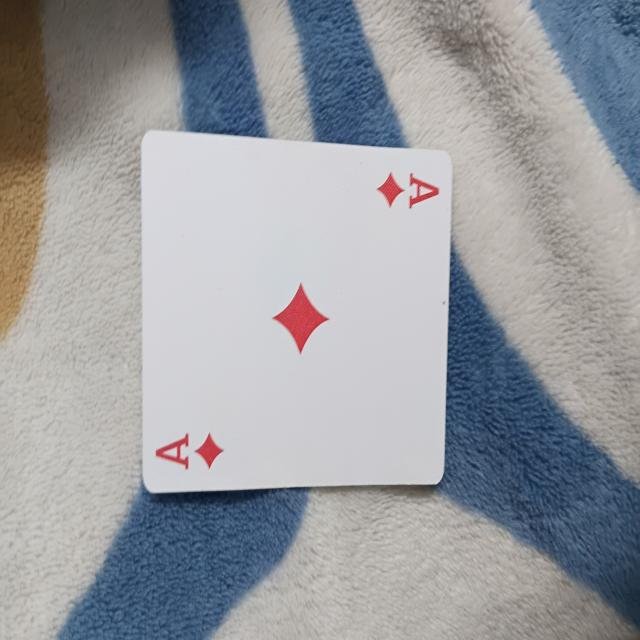AD: (140, 131, 452, 489)
